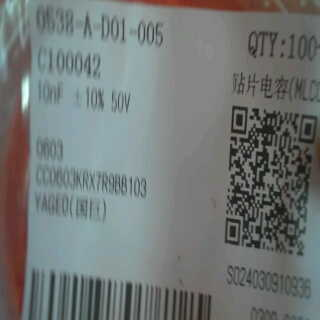10nF: (34, 76, 71, 107)
